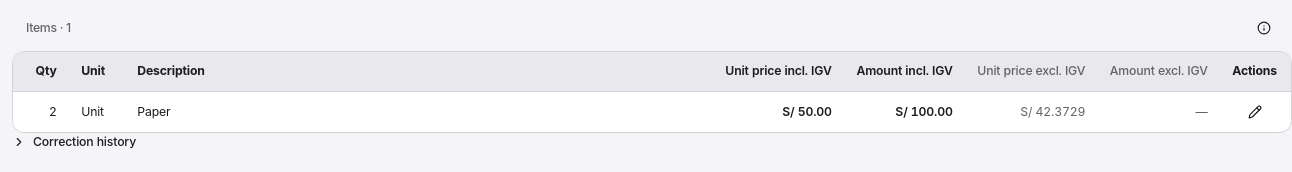
it: renders the Items count and explanation tooltip in en
The image size is (1292, 172).
Check: the text "Printed values are bold; other prices are calculated." is not shown
Focus the button named "Printed values are bold; other prices are calculated." at (1264, 28), box [1250,14,1278,42]
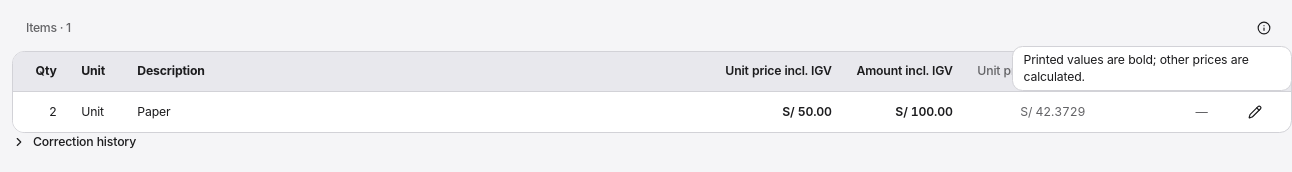
Check: the tooltip reads "Printed values are bold; other prices are calculated.", box [1024,52,1249,84]
